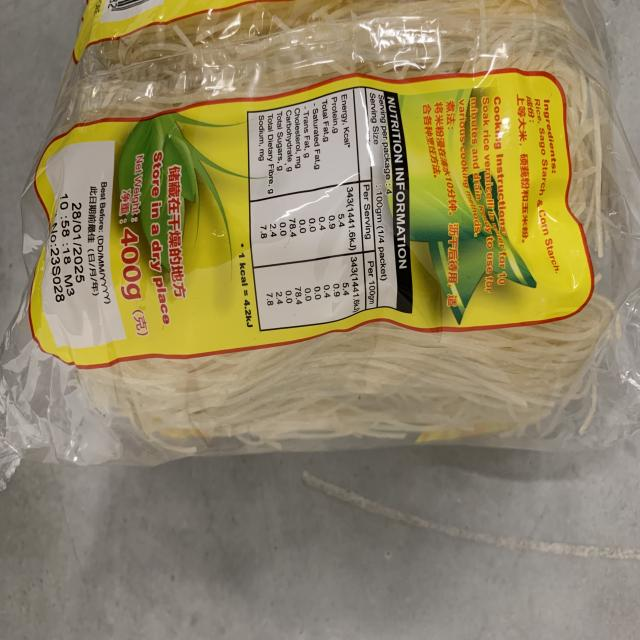object_name: (28, 7, 618, 449)
